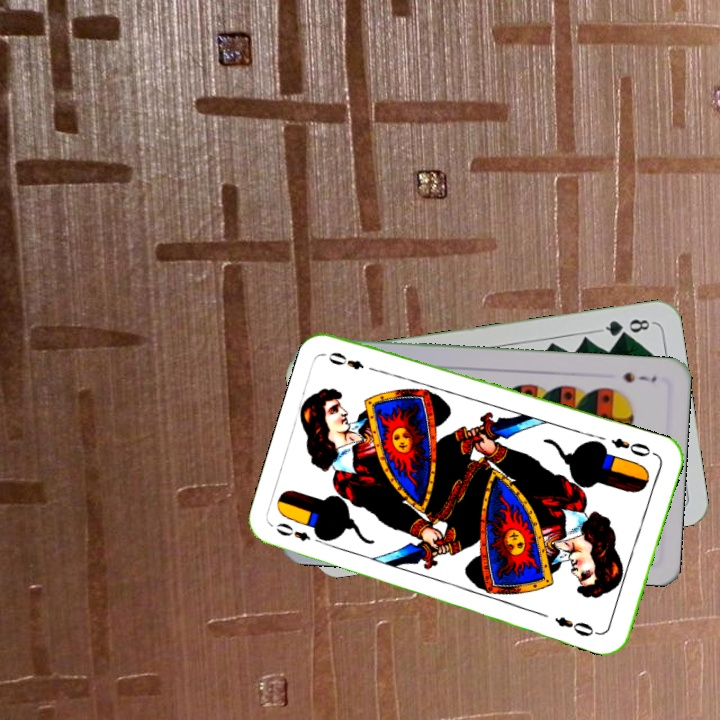EO: (607, 434, 653, 460), (272, 519, 313, 544)
G8: (597, 314, 656, 340)
S7: (619, 368, 659, 385)
